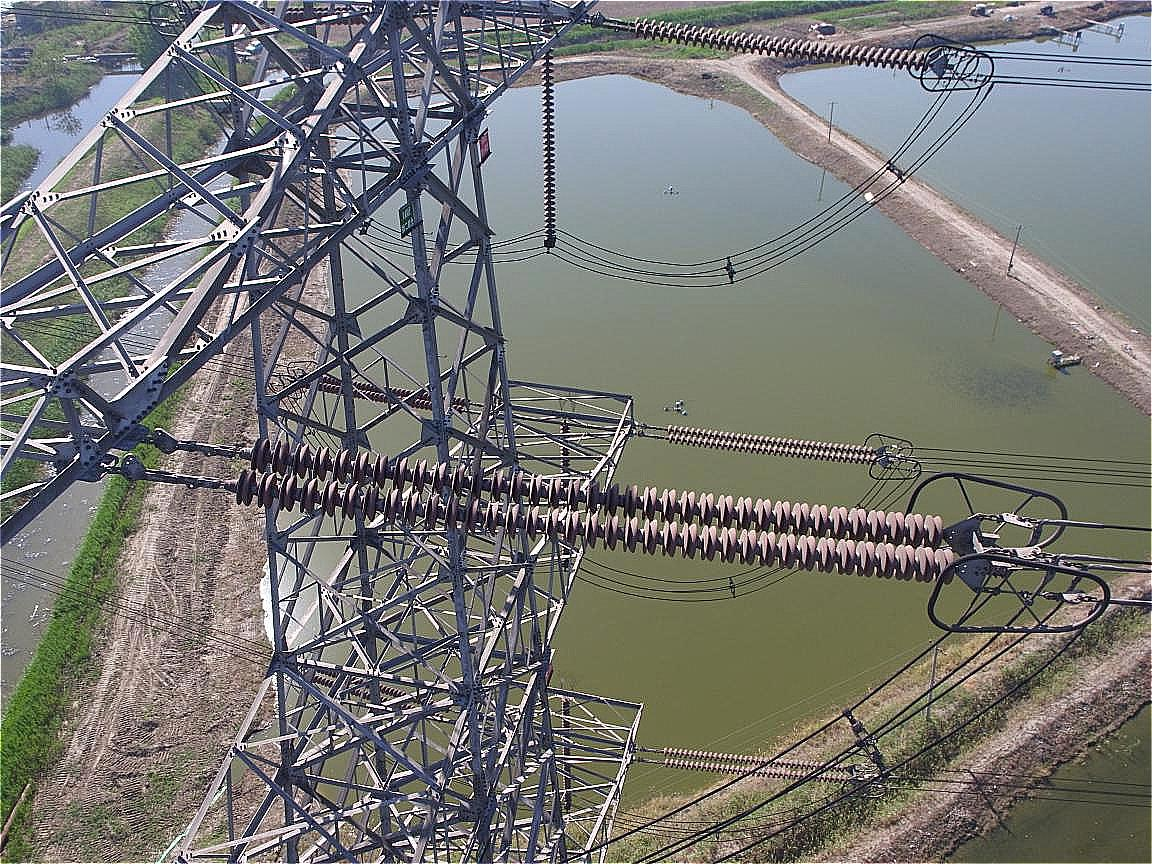insultor1: (634, 14, 931, 71), (669, 425, 880, 466), (662, 747, 850, 787), (542, 50, 559, 237)
insultor2: (236, 439, 957, 584)
